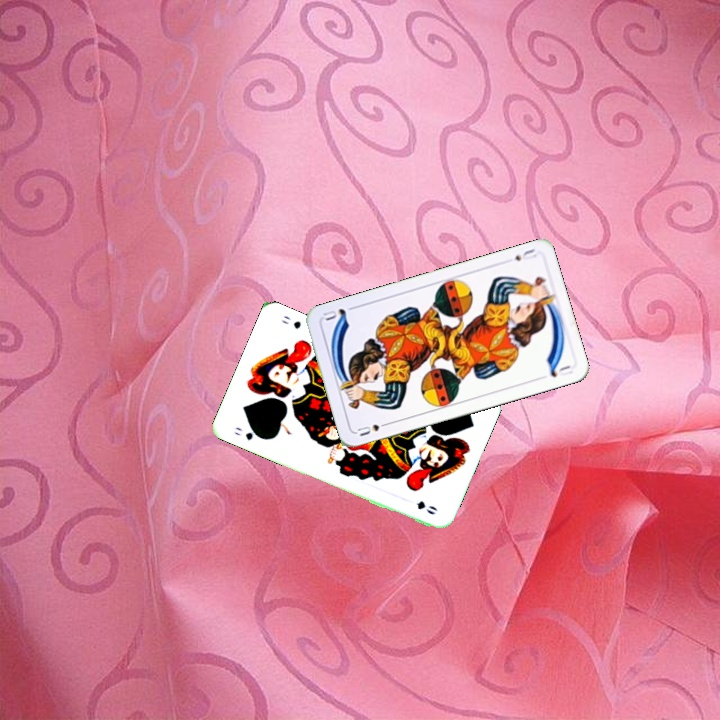GO: (230, 423, 266, 443)
SU: (353, 418, 393, 439), (510, 245, 539, 263)
